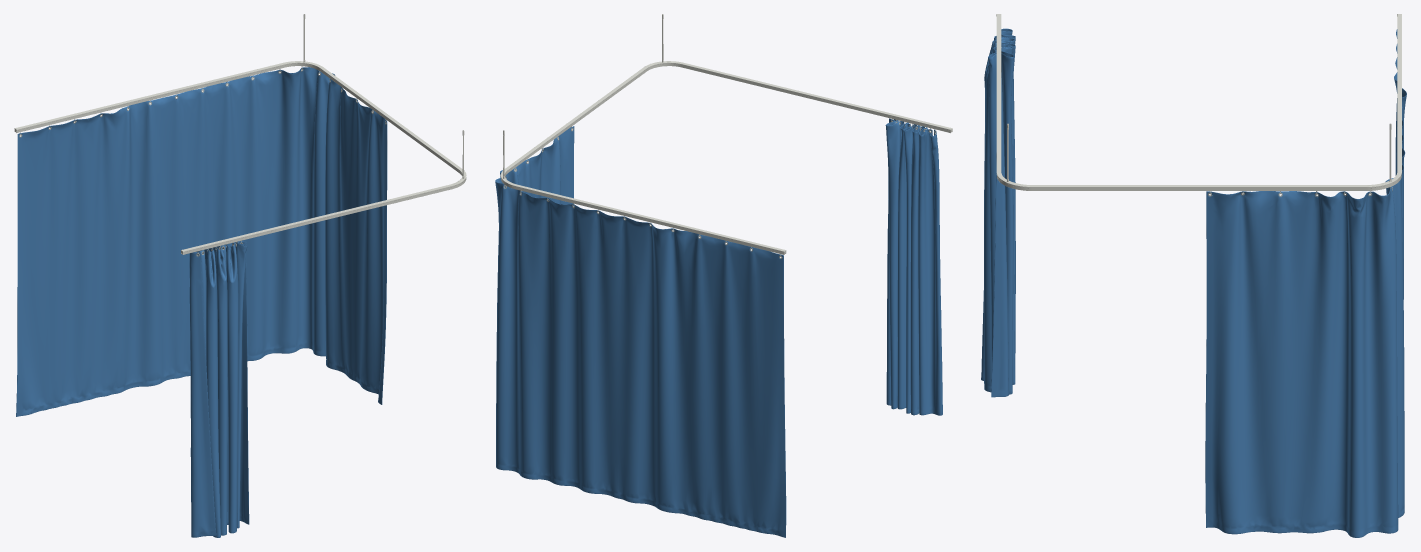
Rendered from screen_hospital_b04.glb.
The picture shows the model from 3 angles, left to right: view 1: azimuth 30°, elevation 25°; view 2: azimuth 150°, elevation 25°; view 3: azimuth 270°, elevation 25°; orthographic projection. The views are drawn at different scales.
Bounding box in the file's own units: 3.24 × 3.46 × 3.29.
